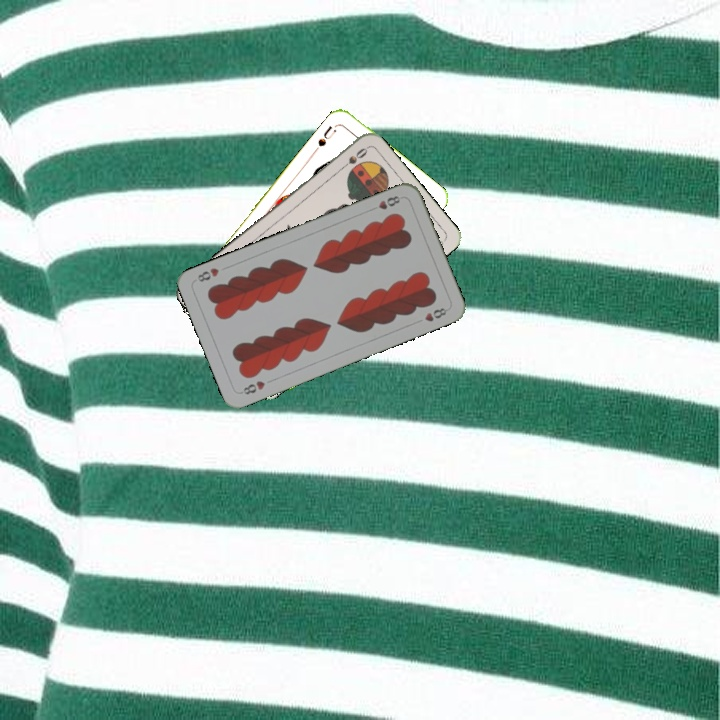H8: (366, 192, 402, 214), (237, 377, 268, 397)
SO: (336, 143, 370, 173)
SU: (314, 122, 339, 149)
